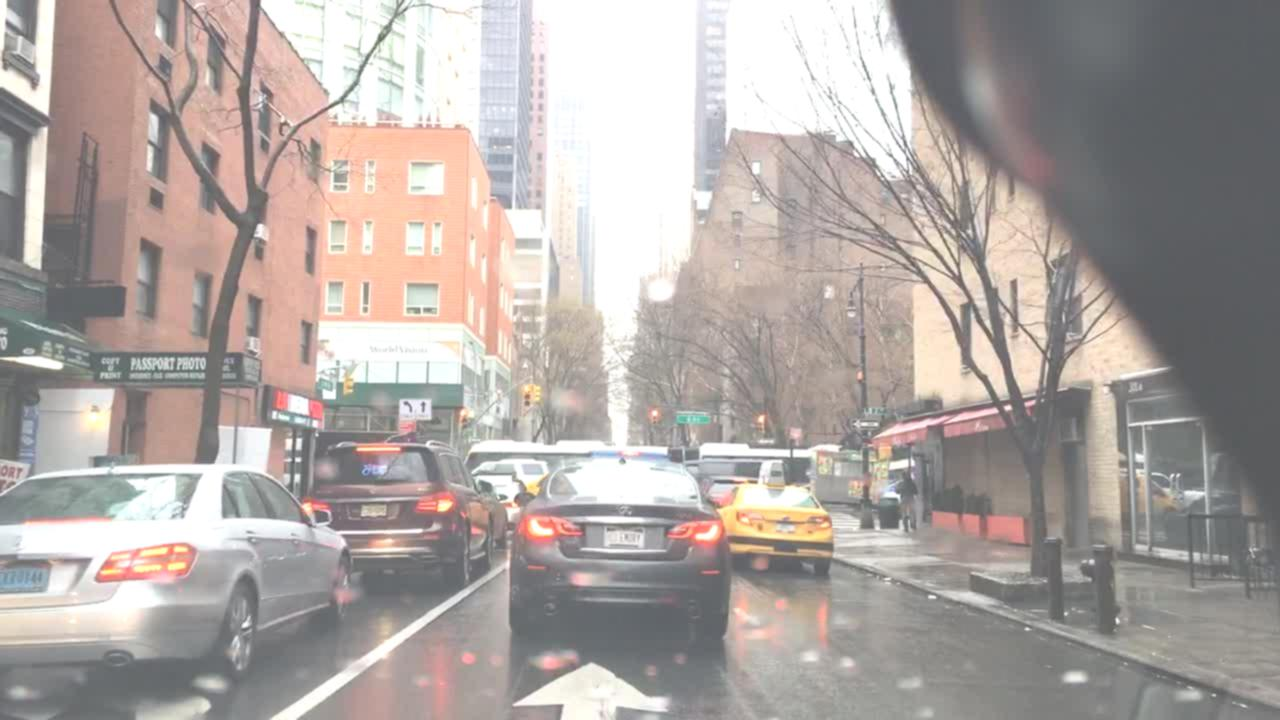Infiniti: (616, 504, 635, 518)
Mercedes: (9, 533, 31, 554)
